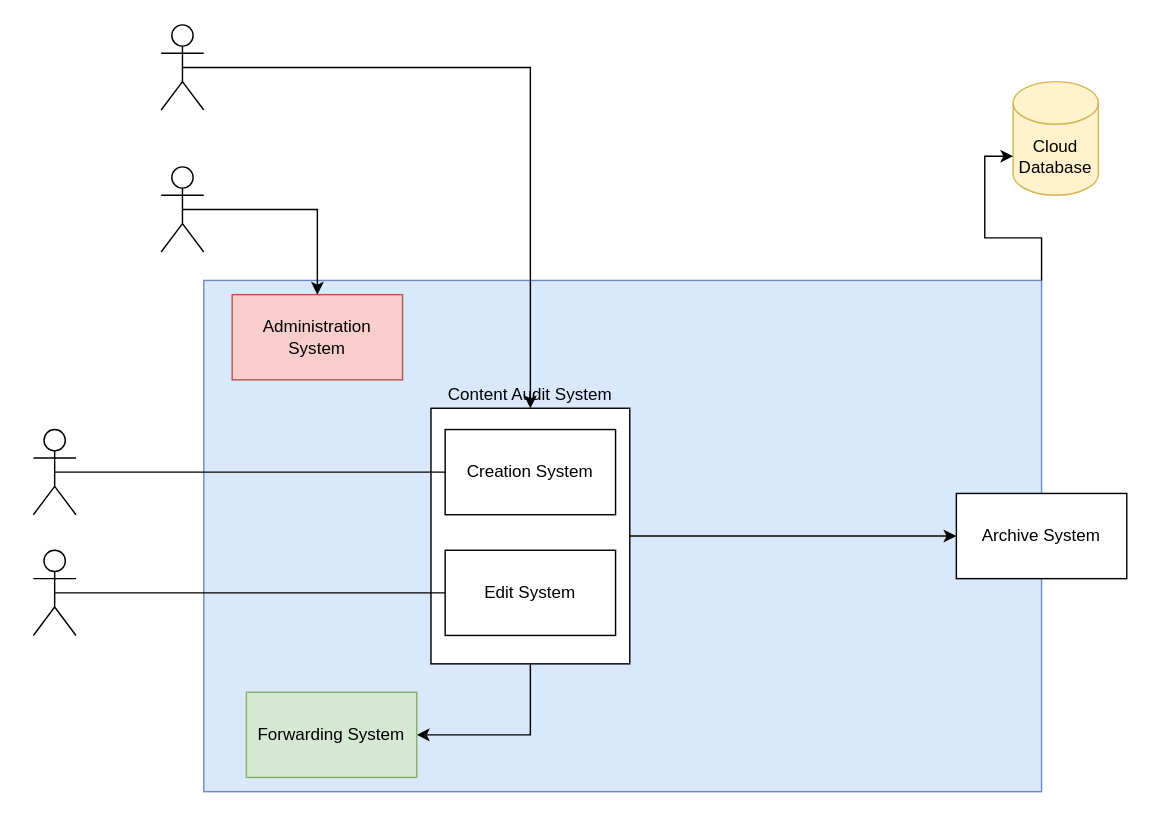
This 1152x817 diagram has some shape labels left out. The box of each missing label's shape, as (x1, y1, x2, y2) in pixels:
administrators: (160, 165, 204, 252)
creators: (32, 428, 76, 515)
editors: (32, 549, 76, 635)
supervisors: (160, 23, 204, 110)
